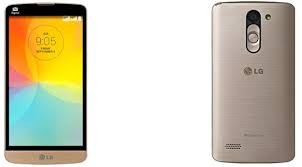lg: (210, 1, 298, 167), (2, 1, 90, 165)
